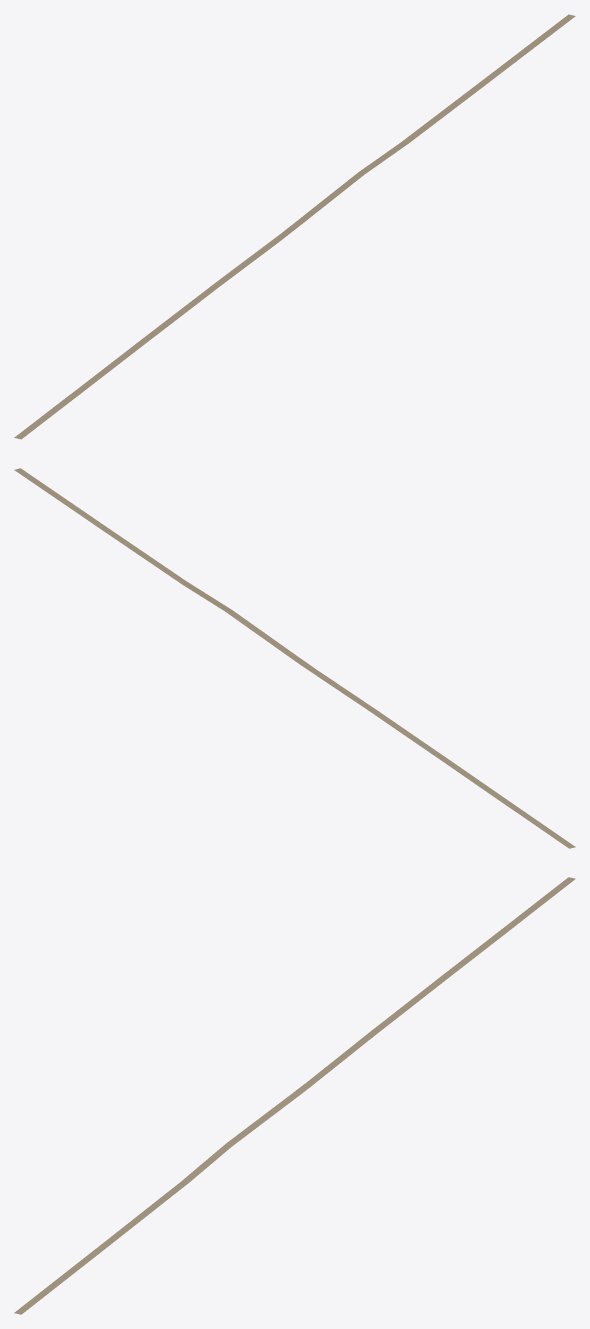
File: farm_26_14_track.glb
3 renders of one model, top to bottom at view 1: azimuth 90°, elevation 25°; view 2: azimuth 150°, elevation 25°; view 3: azimuth 270°, elevation 25°, orthographic. The views are drawn at different scales.
Visible parts, largest first — view 1: geometry_0; view 2: geometry_0; view 3: geometry_0.
Part boxes in pixels (left/top/right/bottom): geometry_0: left=14, top=14, right=575, bottom=439; geometry_0: left=14, top=468, right=575, bottom=848; geometry_0: left=14, top=877, right=575, bottom=1314.
Size of the model in its own units: 399 by 2.72 by 220.
